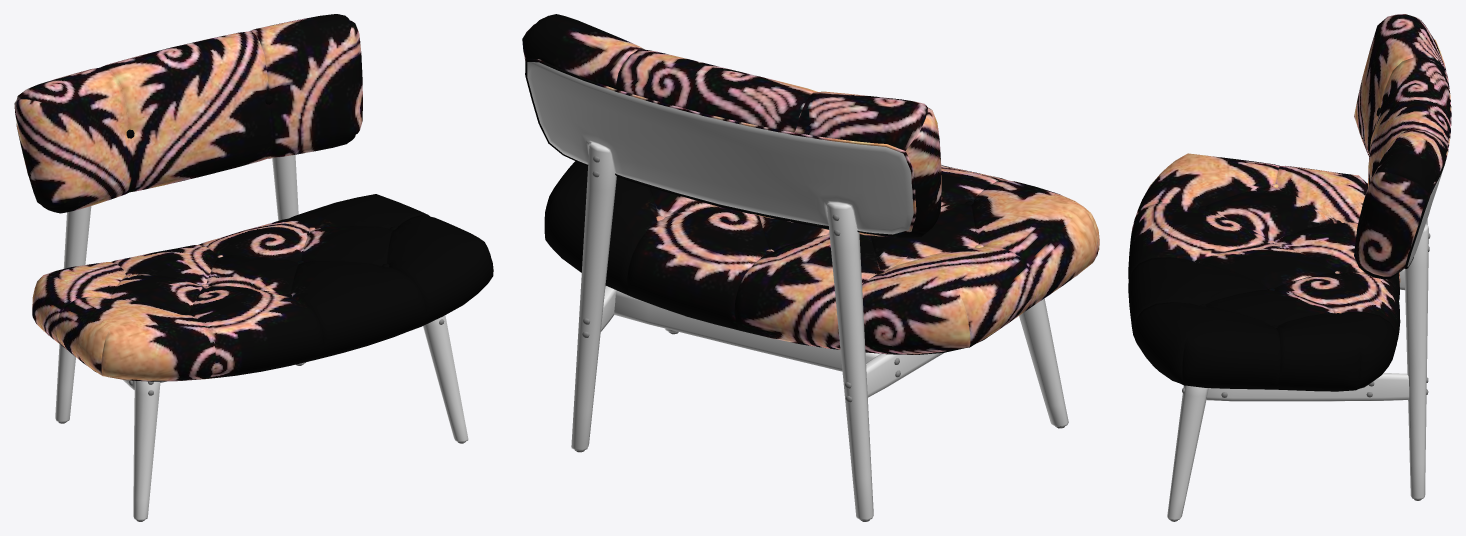
File: ChairDamask.fbx
3 views of the same model, side by side, from view 1: azimuth 30°, elevation 25°; view 2: azimuth 150°, elevation 25°; view 3: azimuth 270°, elevation 25° (orthographic). The views are drawn at different scales.
Parts seen in each view (by area): view 1: oval-tufted-chair_seat-fabric, oval-tufted-chair_back-fabric, oval-tufted-chair_legs-frame; view 2: oval-tufted-chair_seat-fabric, oval-tufted-chair_back-panel, oval-tufted-chair_legs-frame, oval-tufted-chair_back-fabric, oval-tufted-chair_back-welt; view 3: oval-tufted-chair_seat-fabric, oval-tufted-chair_back-fabric, oval-tufted-chair_legs-frame, oval-tufted-chair_back-welt, oval-tufted-chair_back-panel.
Part boxes in pixels (x1,y1,x2,y2): oval-tufted-chair_seat-fabric: (32,194,493,380); oval-tufted-chair_back-fabric: (14,14,362,213); oval-tufted-chair_legs-frame: (55,154,468,520); oval-tufted-chair_seat-fabric: (544,161,1099,354); oval-tufted-chair_back-panel: (527,62,913,234); oval-tufted-chair_legs-frame: (571,142,1068,520); oval-tufted-chair_back-fabric: (522,14,941,237); oval-tufted-chair_back-welt: (525,58,916,236); oval-tufted-chair_seat-fabric: (1128,153,1400,390); oval-tufted-chair_back-fabric: (1354,14,1450,279); oval-tufted-chair_legs-frame: (1167,219,1428,520); oval-tufted-chair_back-welt: (1404,39,1451,268); oval-tufted-chair_back-panel: (1407,169,1443,266).
Size of the model in its own units: 82.86 by 68.74 by 57.18.
